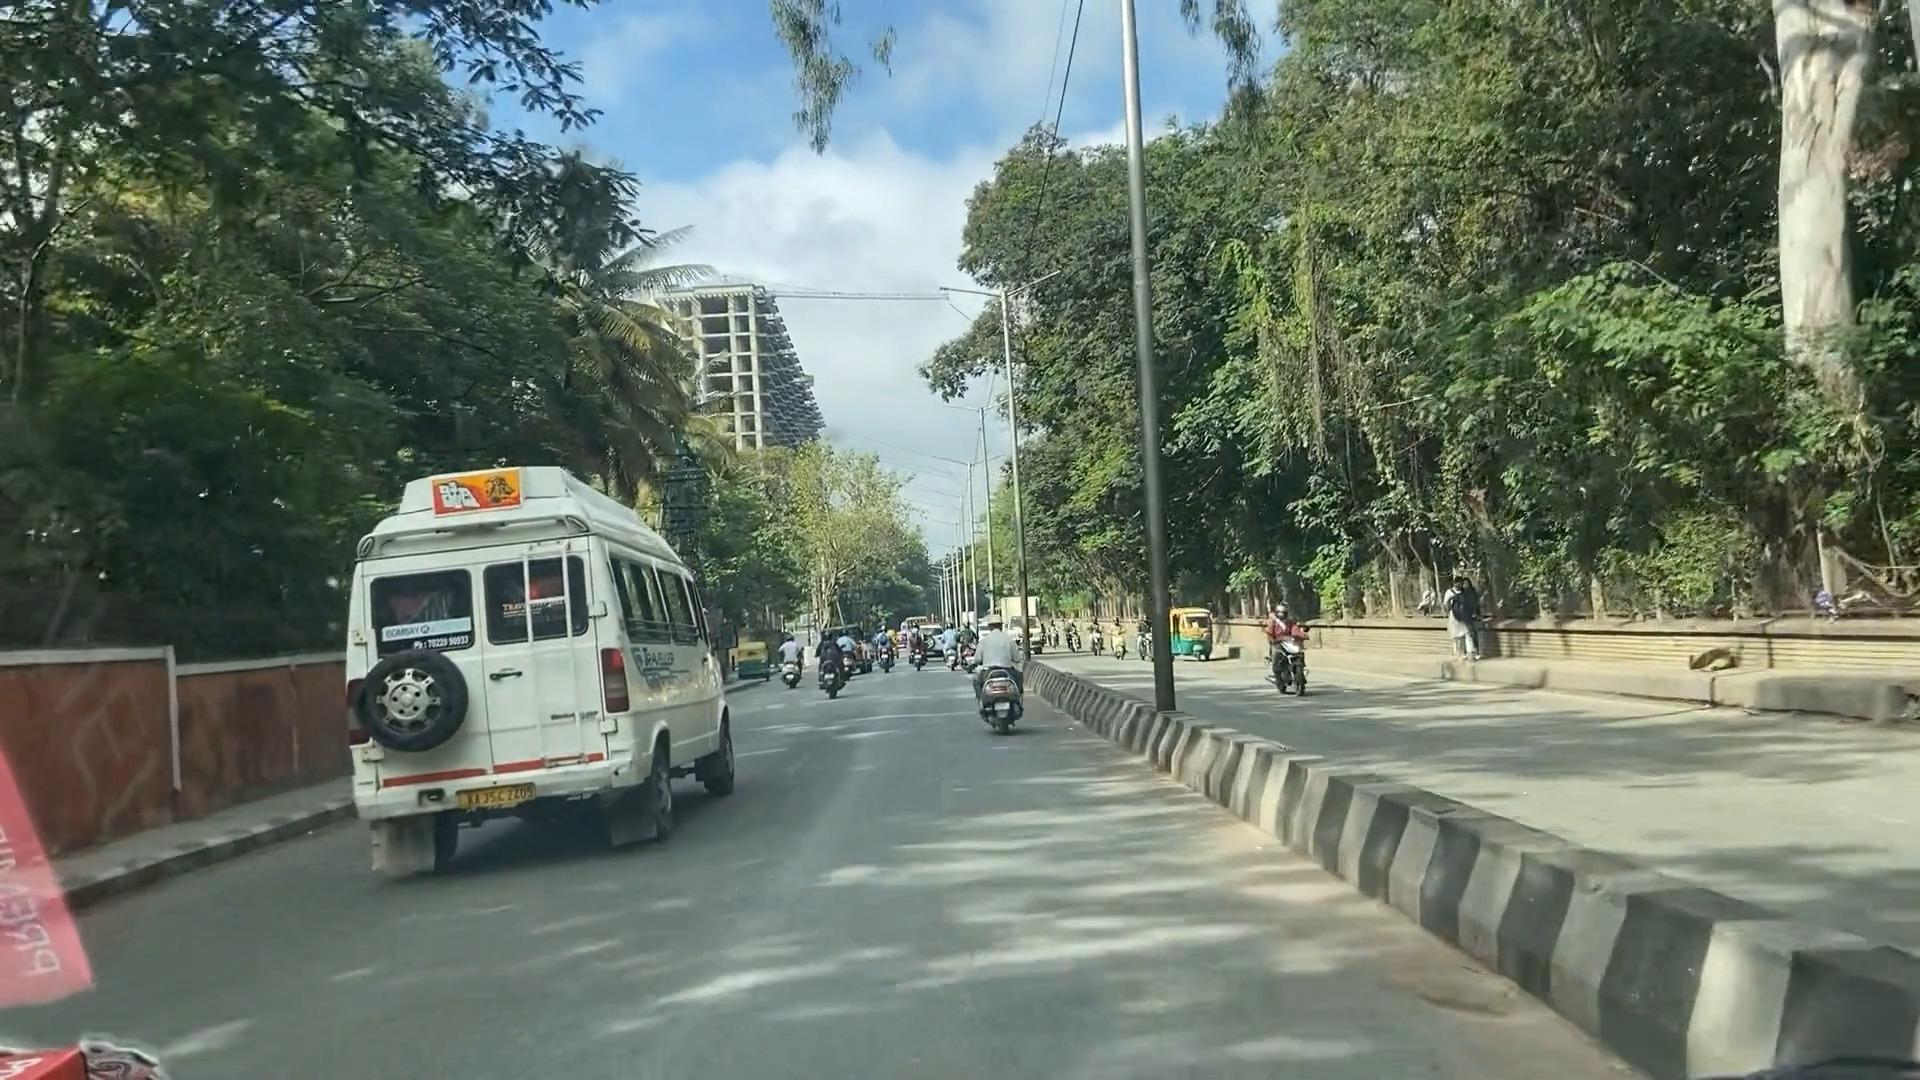HMV: (318, 477, 748, 882)
